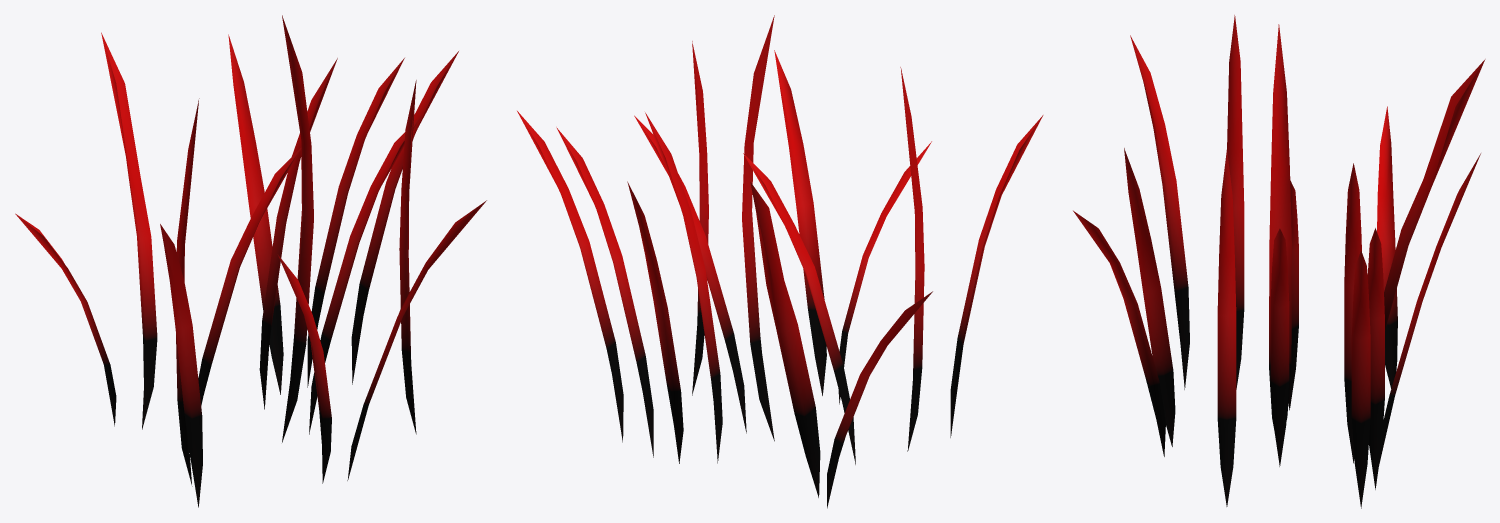
File: SM_Grass_Sub_Long.fbx
The picture shows the model from 3 angles, left to right: view 1: azimuth 30°, elevation 25°; view 2: azimuth 150°, elevation 25°; view 3: azimuth 270°, elevation 25°; orthographic projection.
Visible parts, largest first — view 1: GrassLong; view 2: GrassLong; view 3: GrassLong.
Boxes of the visible parts, x1,y1,x2,y2 form: GrassLong: (15,15,486,507); GrassLong: (517,15,1043,508); GrassLong: (1073,15,1485,508).
Bounding box in the file's own units: 136 × 130 × 112.
